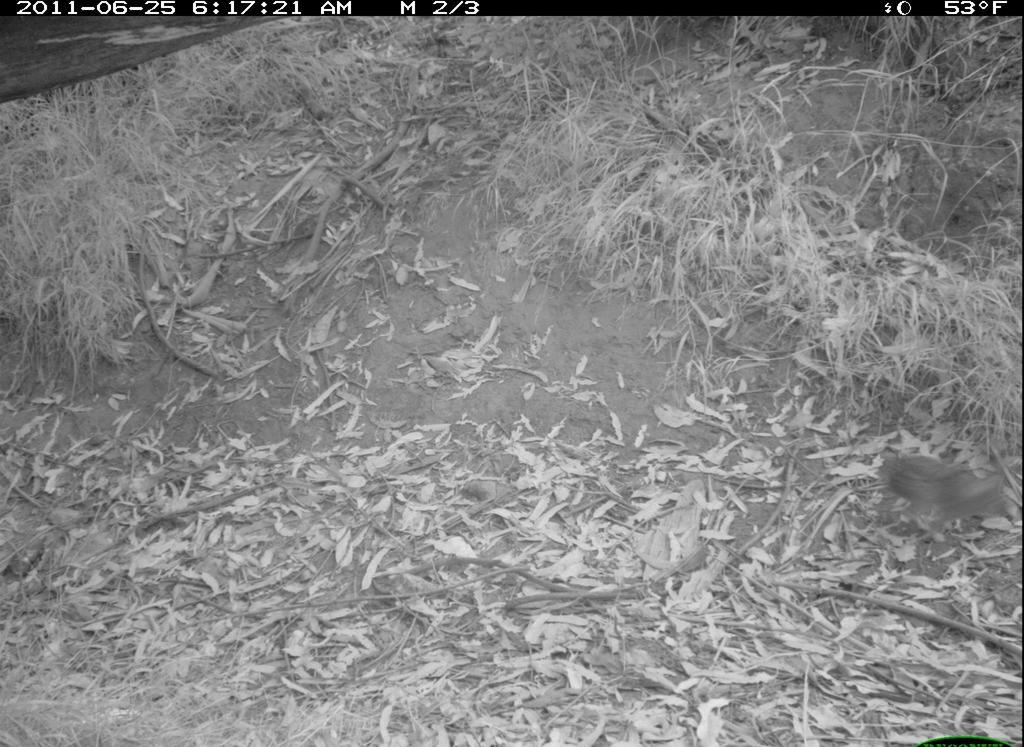rabbit: (862, 445, 1023, 561)
